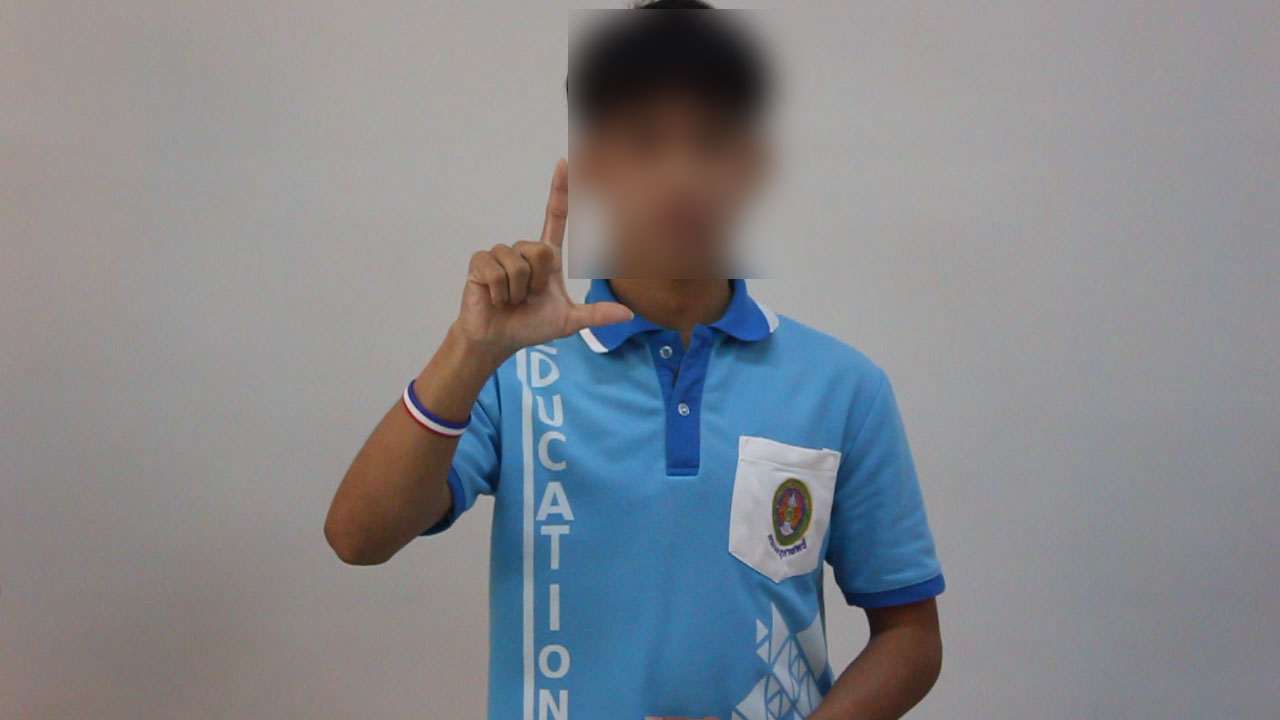lor: (407, 154, 653, 365)
